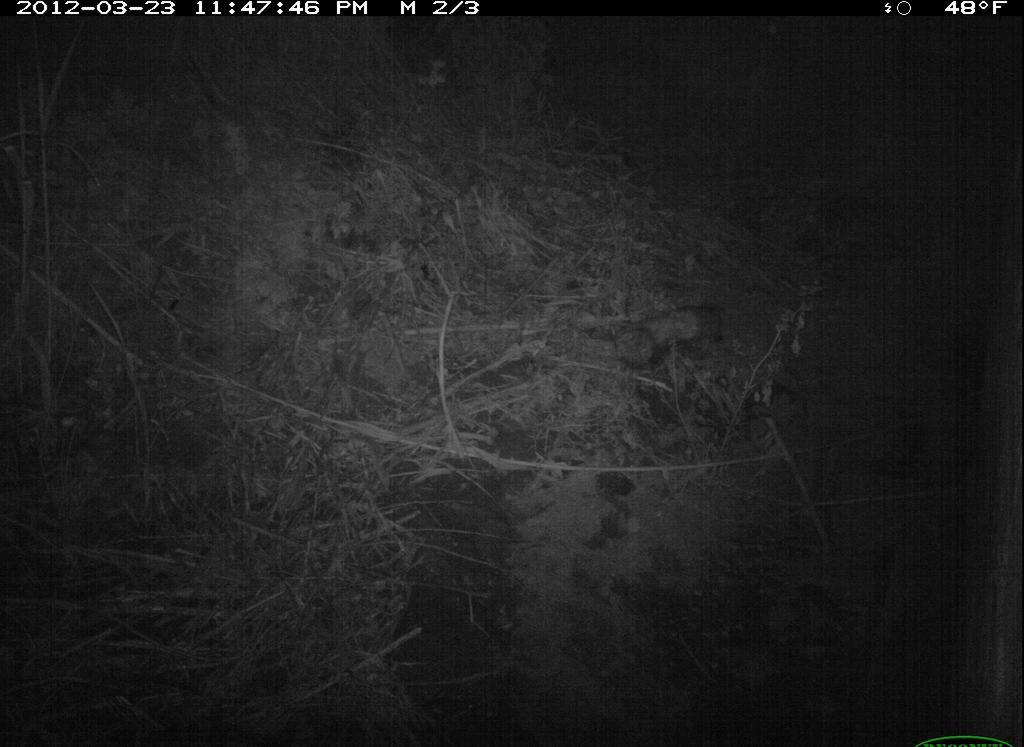opossum: (593, 285, 745, 390)
